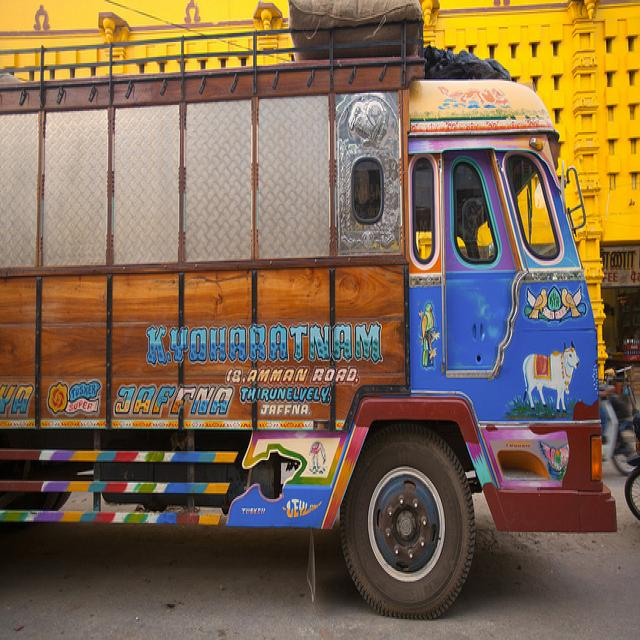motor: (601, 383, 640, 475)
